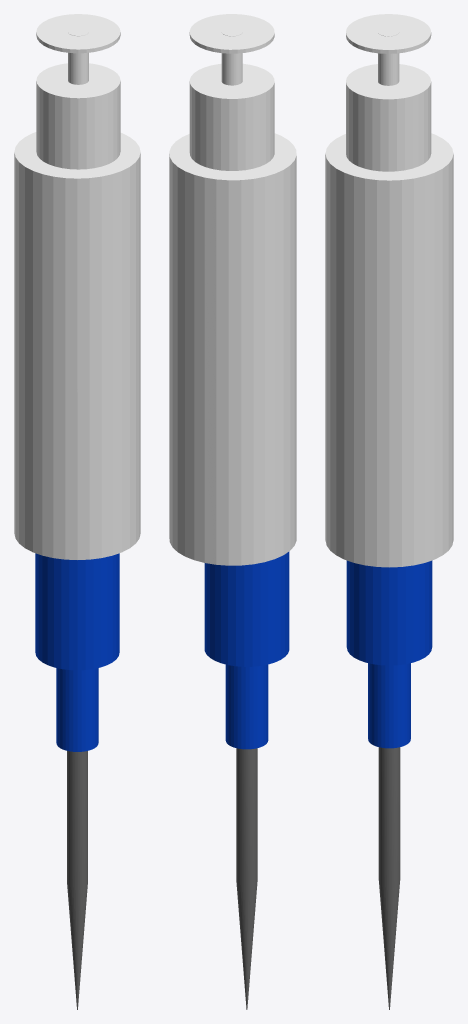
Rendered from pipepitte 1.fbx.
The picture shows the model from 3 angles, left to right: view 1: azimuth 90°, elevation 25°; view 2: azimuth 210°, elevation 25°; view 3: azimuth 270°, elevation 25°; orthographic projection.
Visible parts, largest first — view 1: Cylinder.003, Cylinder.000; view 2: Cylinder.003, Cylinder.000; view 3: Cylinder.003, Cylinder.000.
Part boxes in pixels (<box>): Cylinder.003: <box>14,63,140,1009</box>; Cylinder.000: <box>36,14,120,84</box>; Cylinder.003: <box>169,63,296,1009</box>; Cylinder.000: <box>189,14,274,85</box>; Cylinder.003: <box>325,64,453,1009</box>; Cylinder.000: <box>346,14,431,85</box>.
Size of the model in its own units: 60 by 509 by 60.
